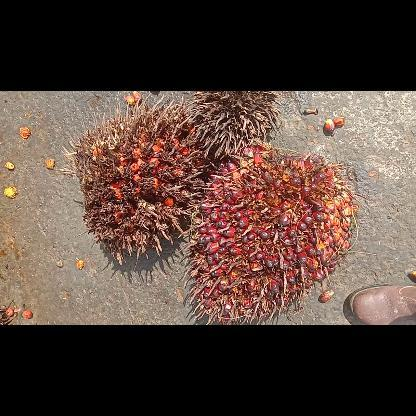Janjang kosong: (186, 90, 280, 156)
TBS masak: (178, 142, 358, 324)
Terlalu masak: (61, 95, 209, 264)
